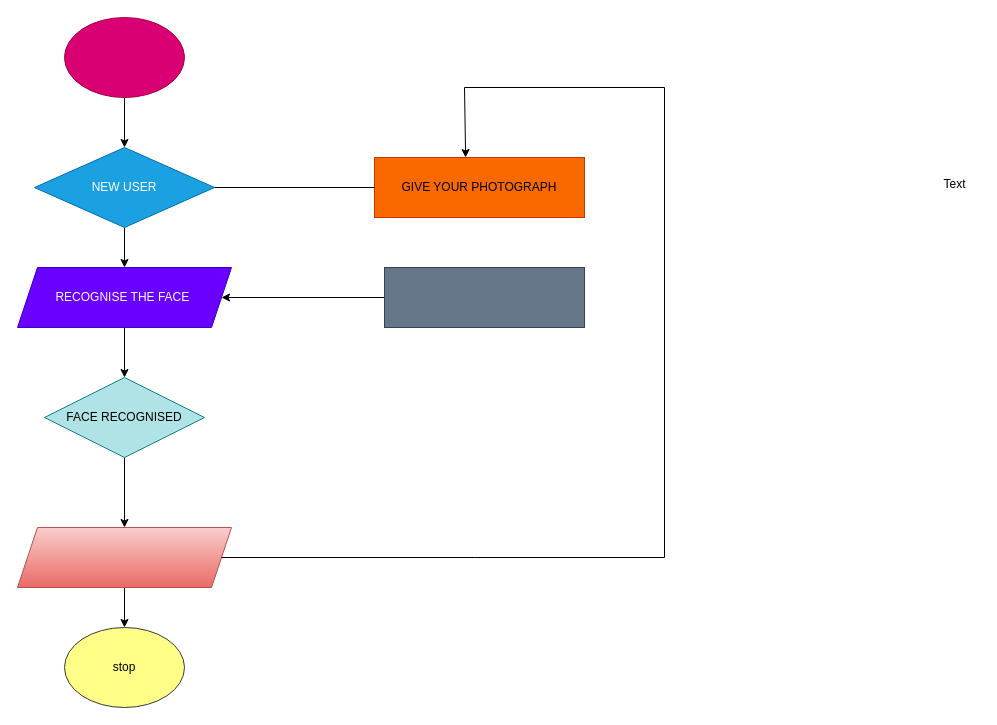
Some shapes in this 997 by 725 pixel diagram are drawn without their labels. The shapes that lost their labels are listed below. From the top down, each one's centre as x and y in pixels, then its label:
At (x=124, y=57): "START".
At (x=484, y=297): "STORE THE FACE DATA IN FOLDER ON YOUR NAME".
At (x=124, y=557): "STORED IN CSV FILE REGISTRATION NUMBER AND DATE AND TIME OF ENTRANCE".
